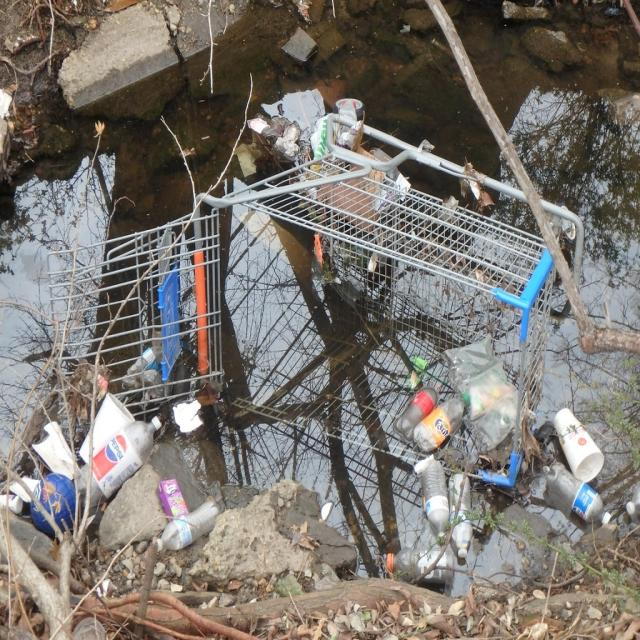Metal: (30, 146, 558, 488)
Plastics: (27, 397, 206, 557), (389, 378, 468, 594)
